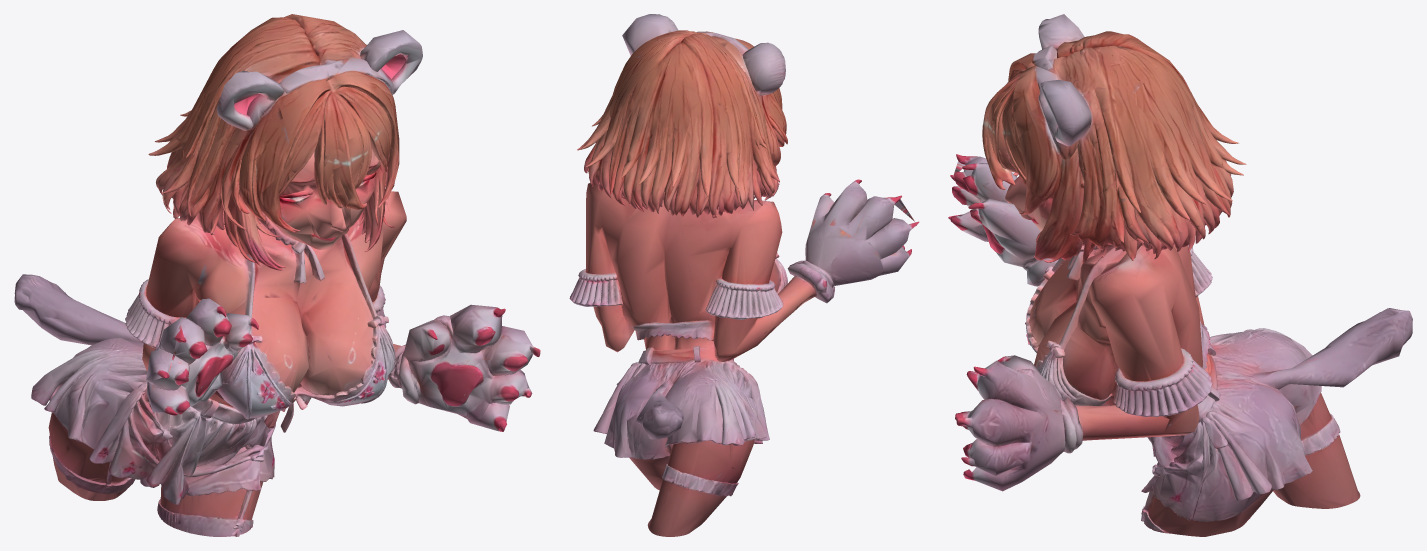
The model's file is 01a1b77b-0ec8-706b-925e-50f0aba0d149.glb.
3 views of the same model, side by side, from view 1: azimuth 30°, elevation 25°; view 2: azimuth 150°, elevation 25°; view 3: azimuth 270°, elevation 25° (orthographic). The views are drawn at different scales.
Parts seen in each view (by area): view 1: model; view 2: model; view 3: model.
Part boxes in pixels (x1=…): model: x1=14, y1=14, x2=540, y2=536; model: x1=569, y1=14, x2=919, y2=536; model: x1=948, y1=14, x2=1412, y2=536.
Size of the model in its own units: 1.17 by 1.5 by 1.26.
1 material, 1 textured.
